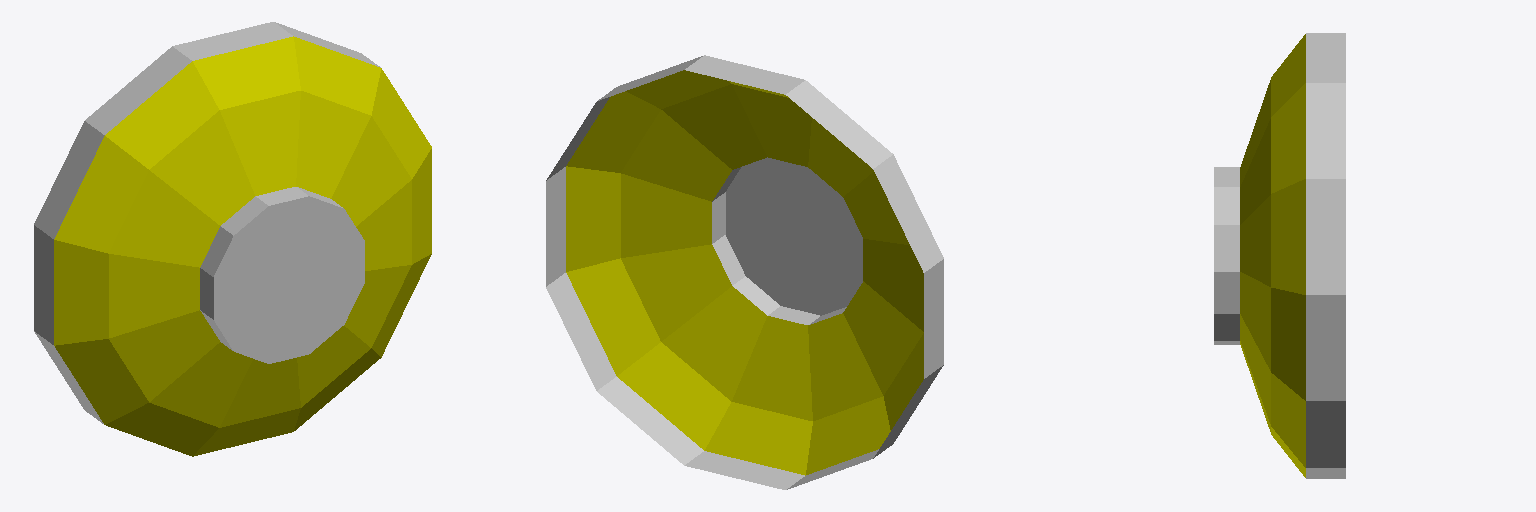
Rendered from Track2HammerButton.obj.
3 views of the same model, side by side, from view 1: azimuth 30°, elevation 25°; view 2: azimuth 150°, elevation 25°; view 3: azimuth 270°, elevation 25° (orthographic).
Visible parts, largest first — view 1: Circle_Circle; view 2: Circle_Circle; view 3: Circle_Circle.
Boxes of the visible parts, box(x1,y1,x2,y2) form: Circle_Circle: box(34, 22, 431, 456); Circle_Circle: box(546, 55, 943, 489); Circle_Circle: box(1214, 33, 1345, 478).
Size of the model in its own units: 0.9852 by 0.9852 by 0.2992.